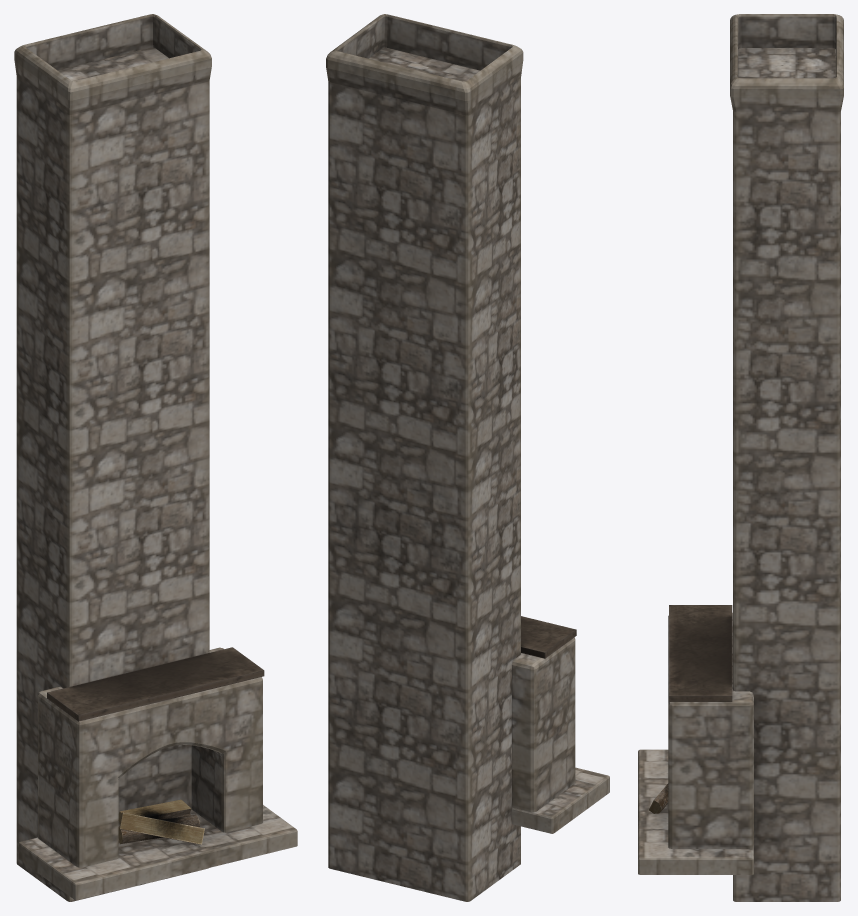
File: BW_Bakery02_InternalOven.fbx
The picture shows the model from 3 angles, left to right: view 1: azimuth 30°, elevation 25°; view 2: azimuth 150°, elevation 25°; view 3: azimuth 270°, elevation 25°; orthographic projection.
Parts seen in each view (by area): view 1: BW_Bakery02_InternalOven; view 2: BW_Bakery02_InternalOven; view 3: BW_Bakery02_InternalOven.
Part boxes in pixels (x1,y1,x2,y2): BW_Bakery02_InternalOven: [14, 14, 297, 901]; BW_Bakery02_InternalOven: [326, 14, 609, 901]; BW_Bakery02_InternalOven: [638, 14, 843, 901].
Size of the model in its own units: 1.85 by 6.49 by 1.48.
